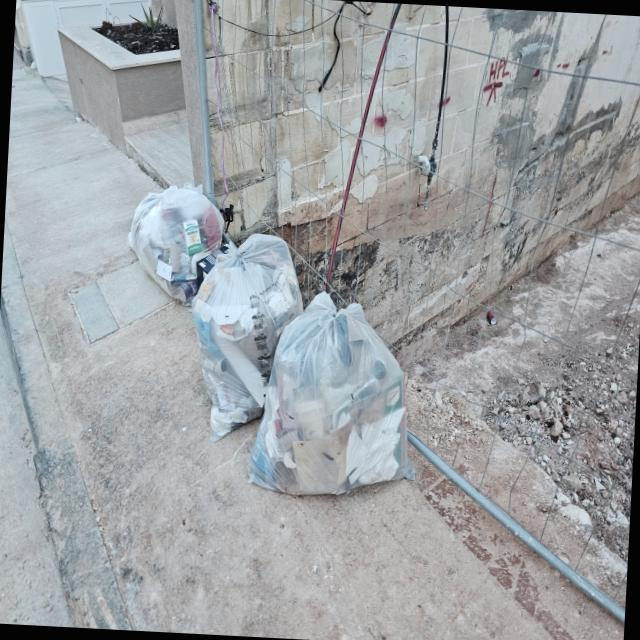grey_bag: (239, 288, 431, 495), (186, 229, 308, 448), (118, 178, 228, 302)
